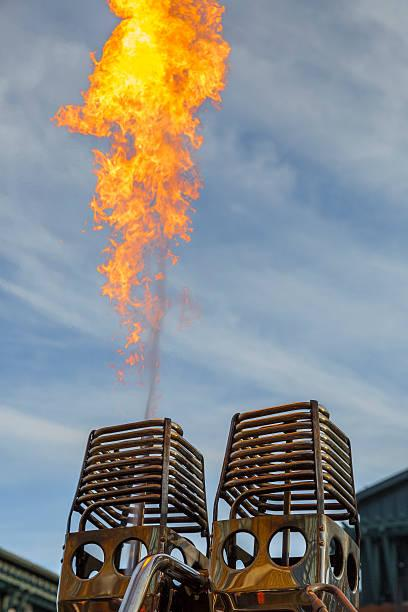Fire: (69, 0, 231, 380)
